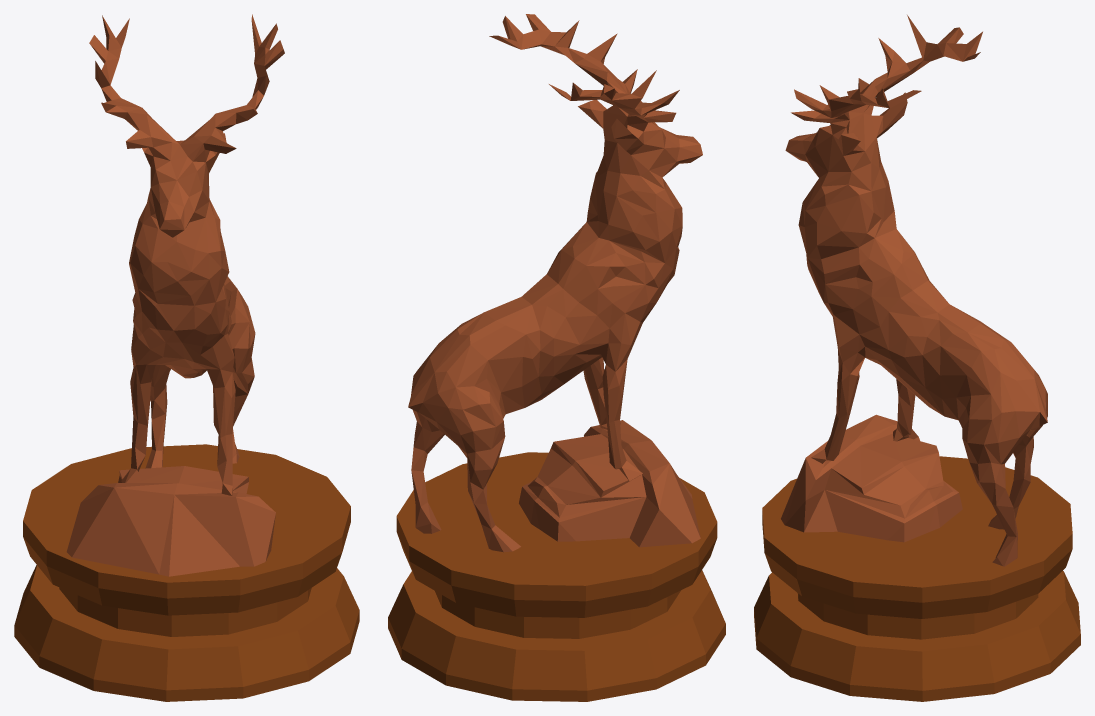
Rendered from Prop_Statue_Wooden_Tribal_Elk_Stag_01.FBX.
The picture shows the model from 3 angles, left to right: view 1: azimuth 30°, elevation 25°; view 2: azimuth 150°, elevation 25°; view 3: azimuth 270°, elevation 25°; orthographic projection. The views are drawn at different scales.
Visible parts, largest first — view 1: Prop_Statue_Wooden_Tribal_Elk_Stag_01; view 2: Prop_Statue_Wooden_Tribal_Elk_Stag_01; view 3: Prop_Statue_Wooden_Tribal_Elk_Stag_01.
Part boxes in pixels (bbox=[...]): Prop_Statue_Wooden_Tribal_Elk_Stag_01: bbox=[14, 14, 359, 701]; Prop_Statue_Wooden_Tribal_Elk_Stag_01: bbox=[388, 14, 725, 701]; Prop_Statue_Wooden_Tribal_Elk_Stag_01: bbox=[754, 15, 1080, 701].
Bounding box in the file's own units: 4351 × 8325 × 4272.
